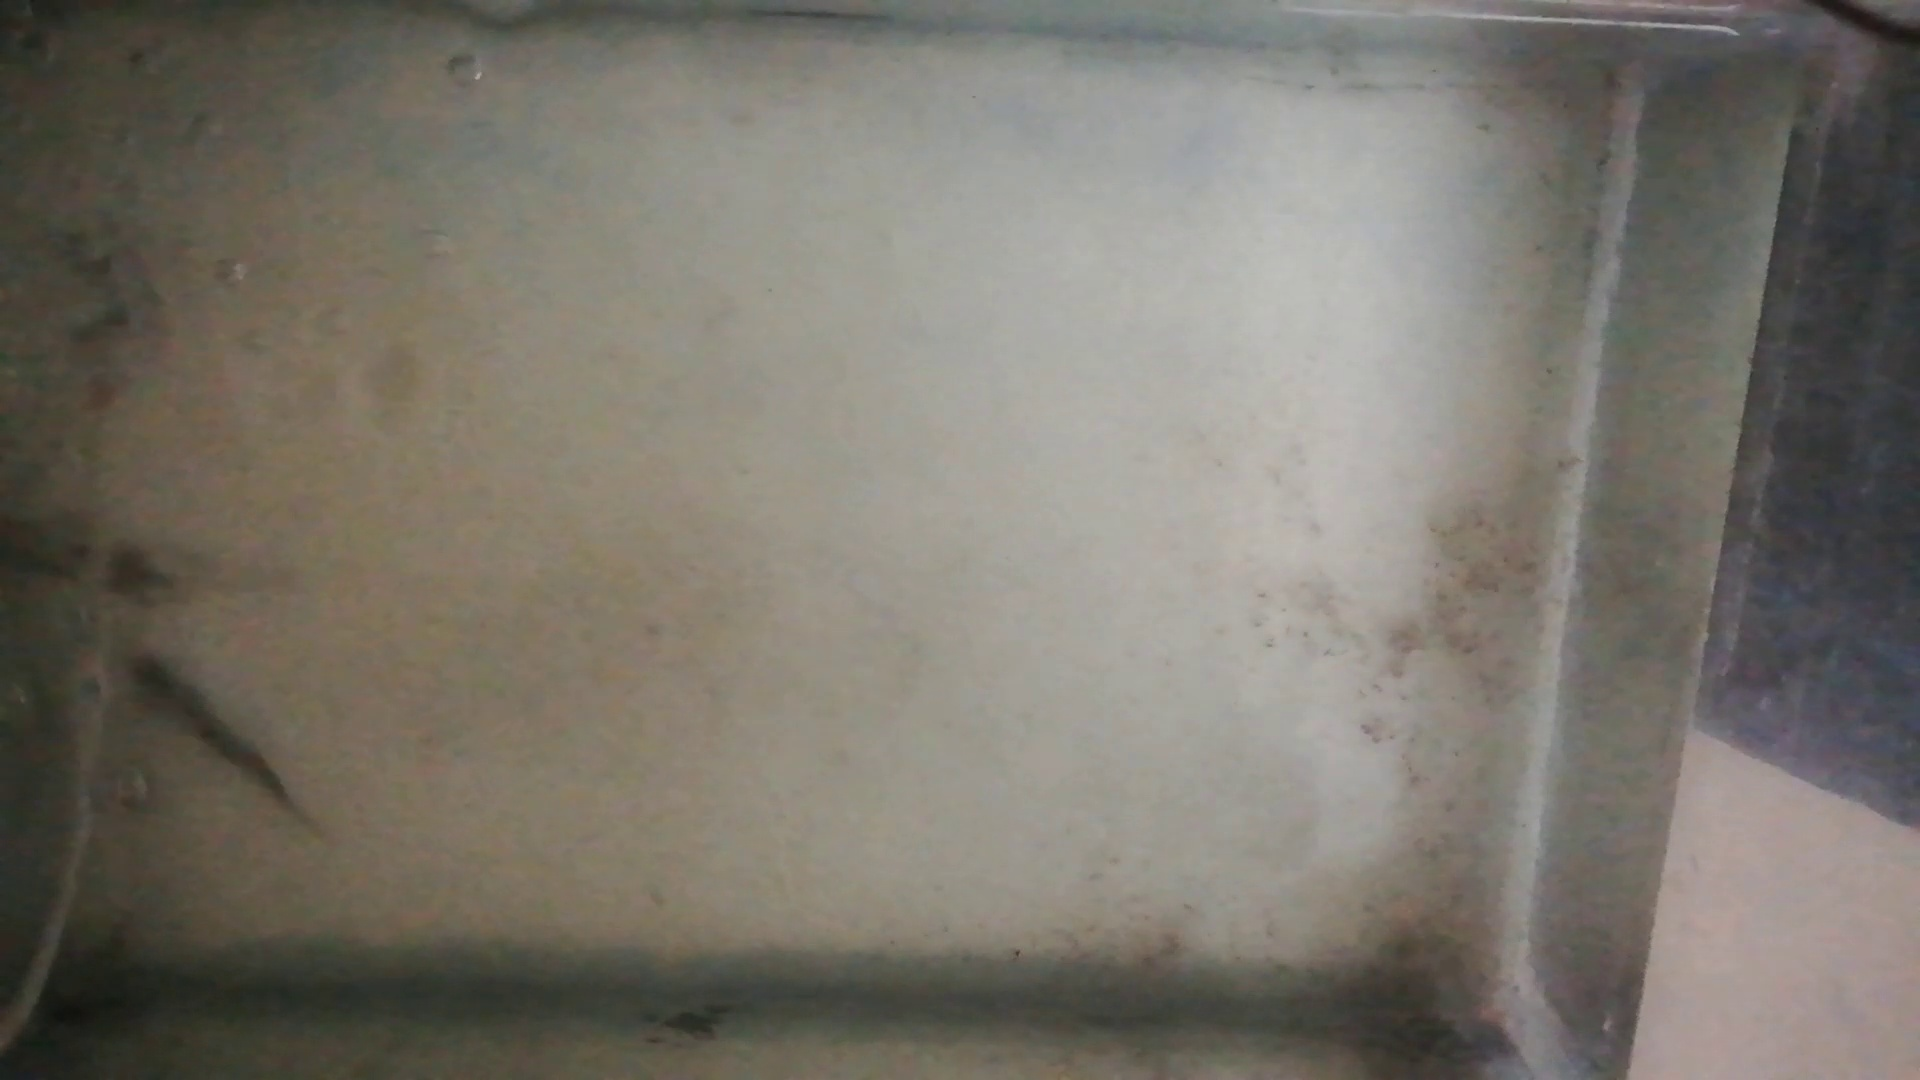fish: (127, 653, 291, 810), (11, 530, 174, 591)
